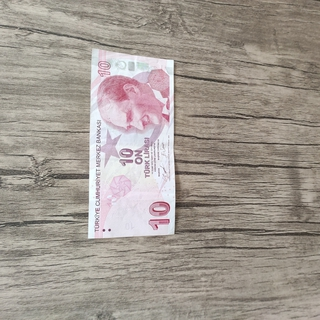10TLFront: (86, 47, 176, 239)
